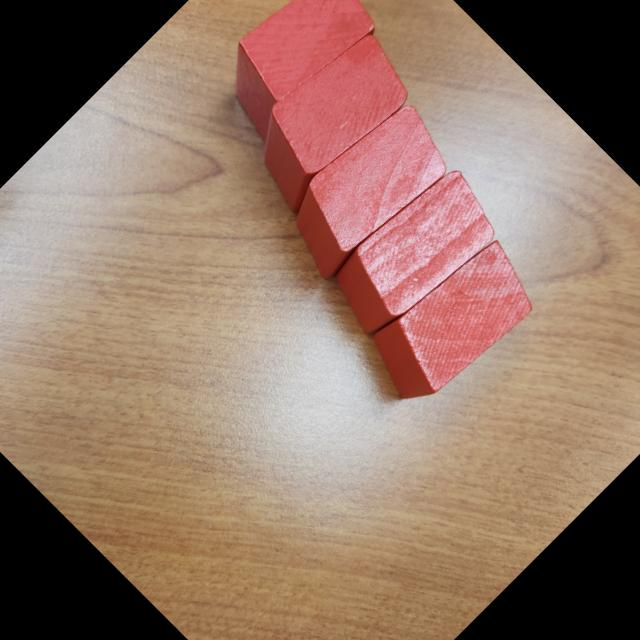red: (264, 90, 463, 288), (314, 154, 512, 352), (352, 224, 550, 422), (227, 19, 422, 216), (200, 0, 387, 143)
